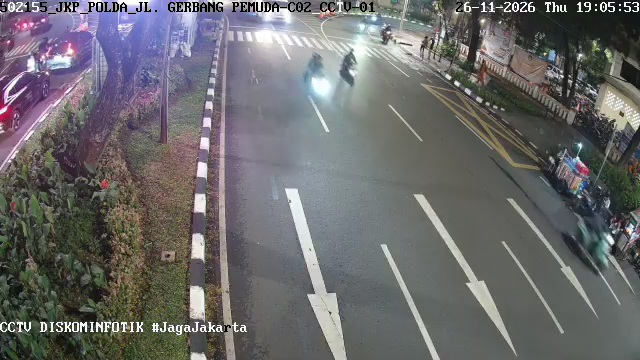Gerobak: (540, 142, 599, 202)
